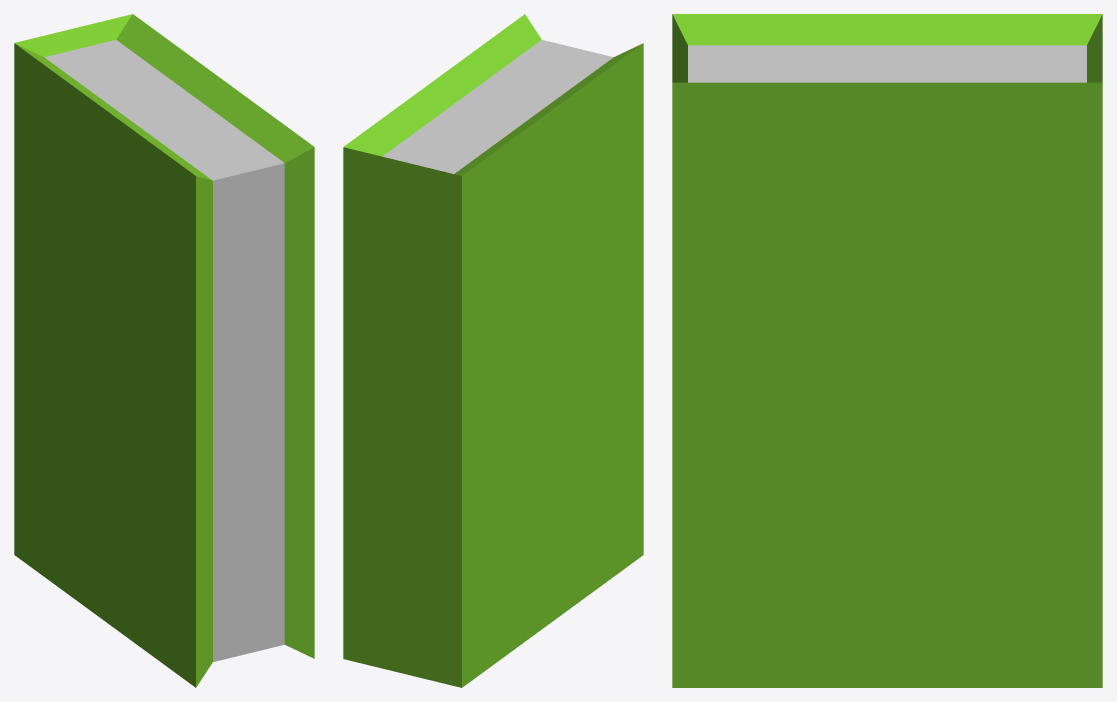
The model's file is Green Book.fbx.
3 renders of one model, left to right at view 1: azimuth 30°, elevation 25°; view 2: azimuth 150°, elevation 25°; view 3: azimuth 270°, elevation 25°, orthographic. The views are drawn at different scales.
Visible parts, largest first — view 1: Cube; view 2: Cube; view 3: Cube.
Boxes of the visible parts, x1=… form: Cube: x1=14, y1=14, x2=314, y2=687; Cube: x1=343, y1=14, x2=643, y2=687; Cube: x1=672, y1=14, x2=1102, y2=687.
Size of the model in its own units: 39.43 by 162 by 105.
